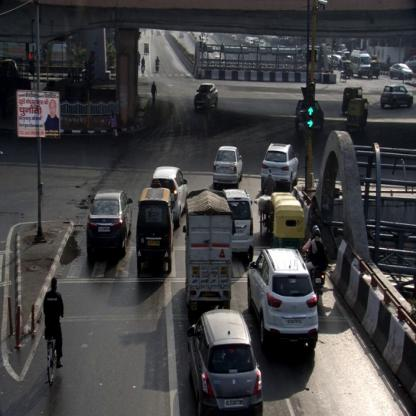bus: (350, 48, 370, 79)
car: (187, 309, 264, 414), (248, 246, 318, 351), (136, 180, 174, 274), (86, 188, 134, 260), (221, 190, 253, 263), (151, 166, 188, 228), (260, 140, 297, 190), (213, 146, 244, 189), (296, 99, 324, 129), (380, 85, 405, 112), (194, 85, 214, 109), (389, 63, 414, 81)
motorcycle: (43, 276, 64, 380), (304, 224, 324, 298), (140, 56, 146, 76), (155, 56, 160, 72)
truck: (184, 191, 232, 315)
